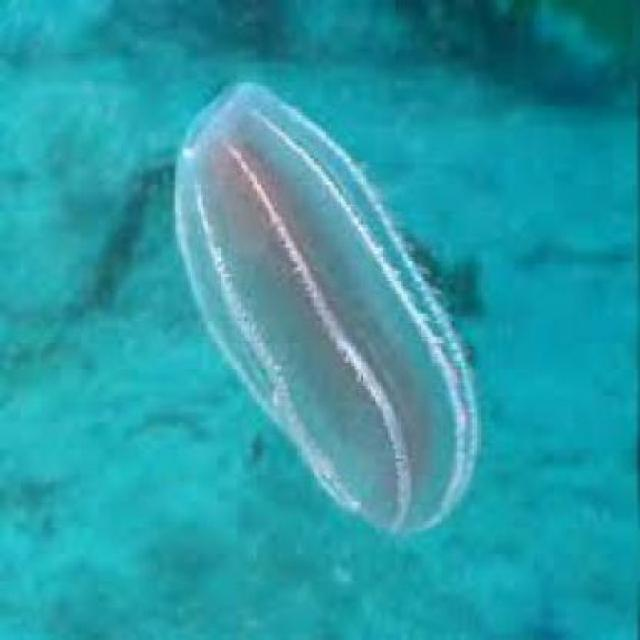Jellyfish: (168, 68, 480, 534)
